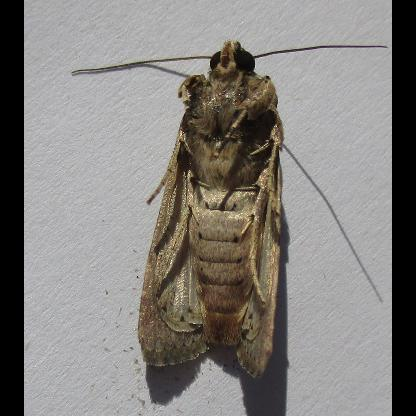Fall Armyworm Moth: (70, 35, 392, 383)
